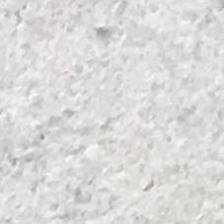Non_Crack: (16, 21, 215, 159)
